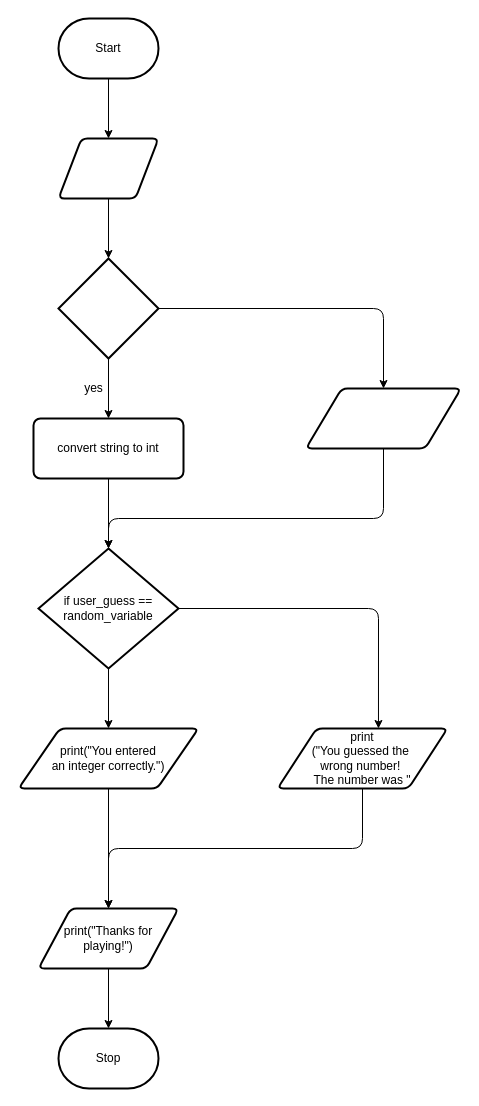
Image size: 479x1106. Some labels were removed from this diagram. The shapes that lost their labels are listed below. From the top down, each one's box as (x1, y1, x2, y2) in pixels, then its label:
(57, 137, 159, 199): get user_guess
(57, 257, 159, 359): try
(304, 387, 462, 449): print("That was not an integer.")
